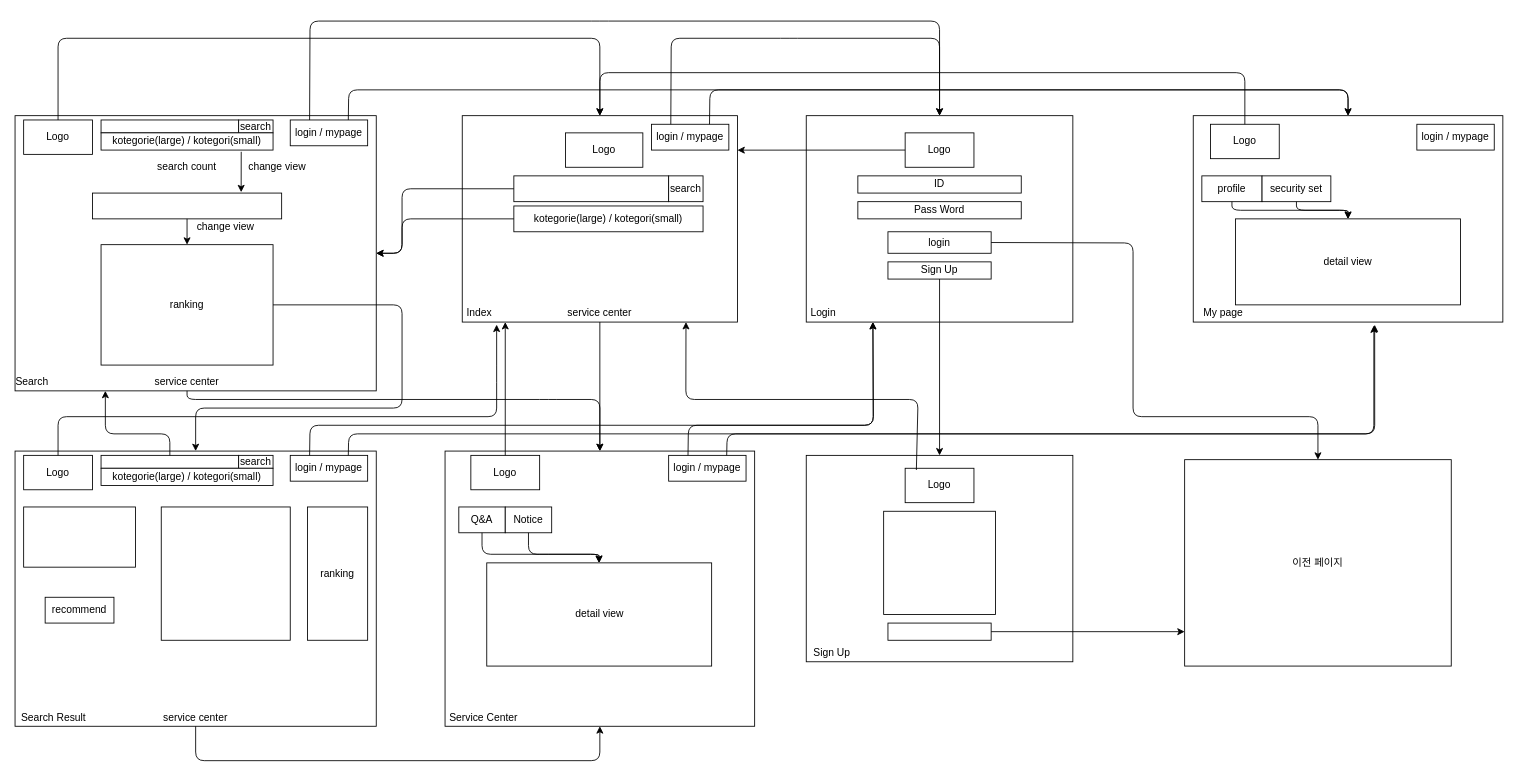
Some shapes in this 1518 by 783 pixel diagram are drawn without their labels. The centre of each missing label's shape, as x and y in pixels:
"comment" belongs at pixel 225 573.
"Complete" belongs at pixel 939 631.
"kotegori(small)" belongs at pixel 187 205.
"result detail" belongs at pixel 79 536.
"Search bar" belongs at pixel 591 188.
"Sign Up Detail" belongs at pixel 939 562.
